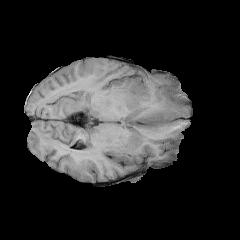glioma: (122, 82, 186, 123)
